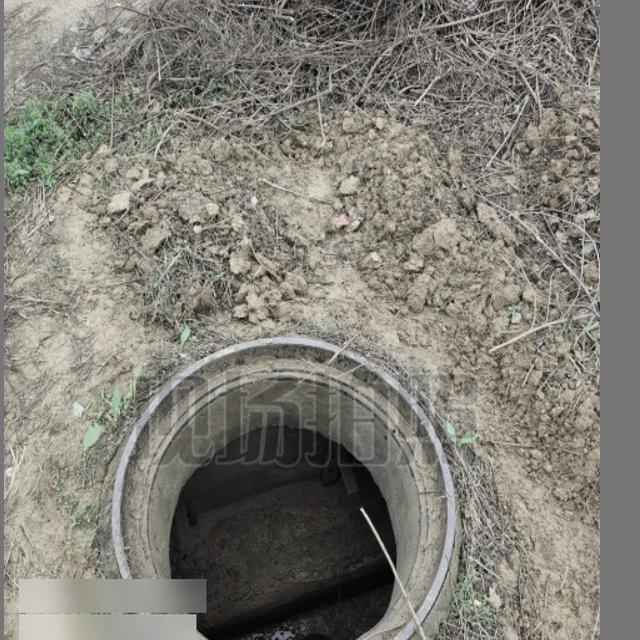lose: (96, 328, 463, 640)
